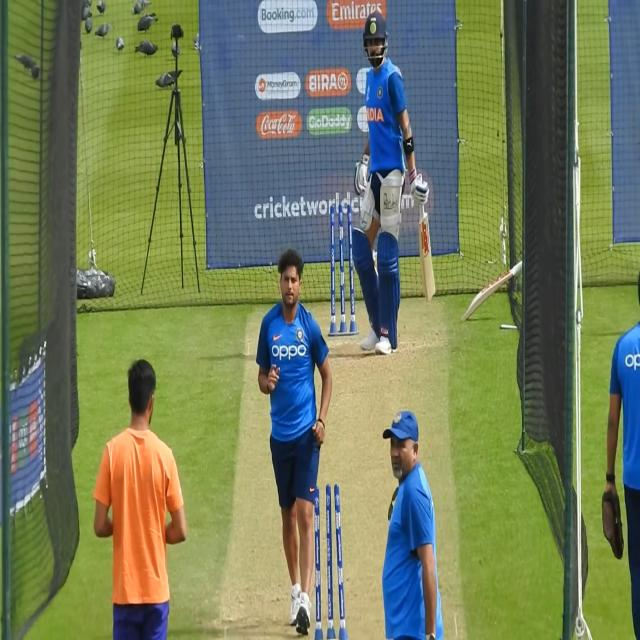stump: (312, 485, 348, 640), (329, 202, 356, 335)
